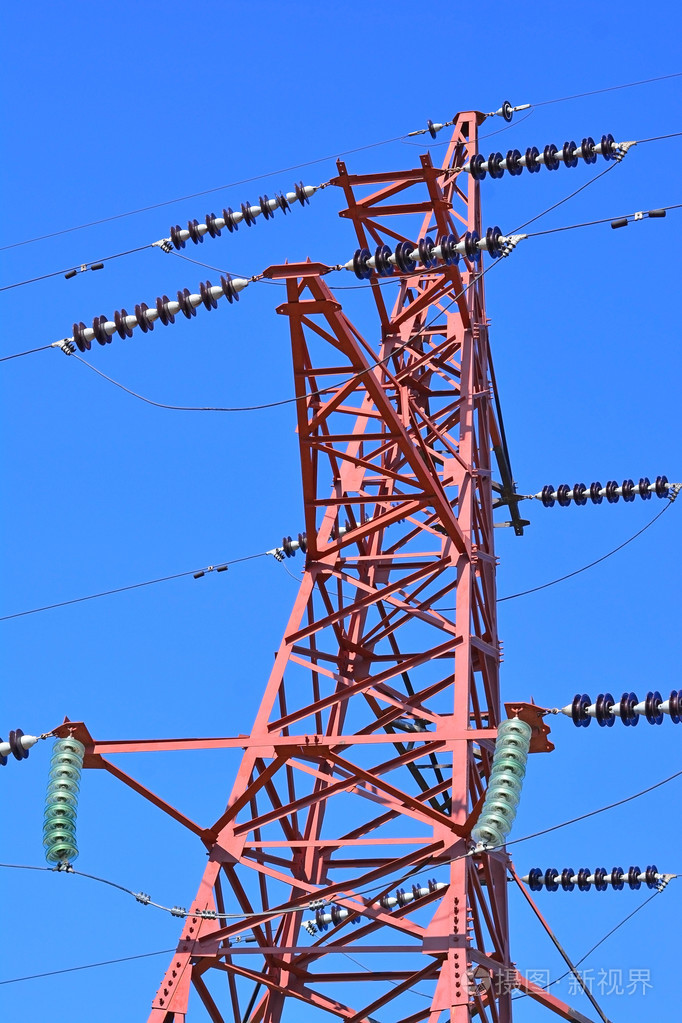insulator: (68, 271, 238, 354), (163, 181, 311, 250), (467, 716, 536, 850), (348, 223, 500, 281), (465, 132, 615, 183), (314, 879, 437, 935), (42, 738, 86, 867), (572, 686, 682, 728), (540, 476, 671, 511), (525, 861, 660, 893), (276, 523, 355, 554)
